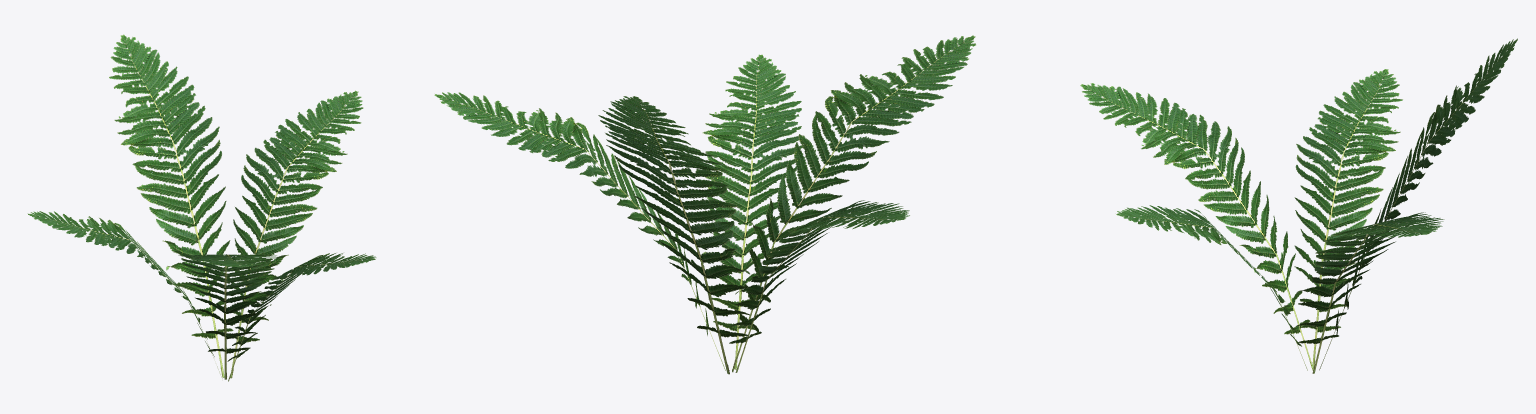
The model's file is OsmundaCinnamonea.dae.
3 renders of one model, left to right at view 1: azimuth 30°, elevation 25°; view 2: azimuth 150°, elevation 25°; view 3: azimuth 270°, elevation 25°, orthographic. The views are drawn at different scales.
Parts seen in each view (by area): view 1: Mesh; view 2: Mesh; view 3: Mesh.
Part boxes in pixels (box(x1,y1,x2,y2)): Mesh: box(27, 34, 376, 381); Mesh: box(434, 35, 975, 374); Mesh: box(1080, 38, 1517, 373).
Size of the model in its own units: 2.97 by 2.11 by 2.73.
Materials: 1 (1 with a texture image).
